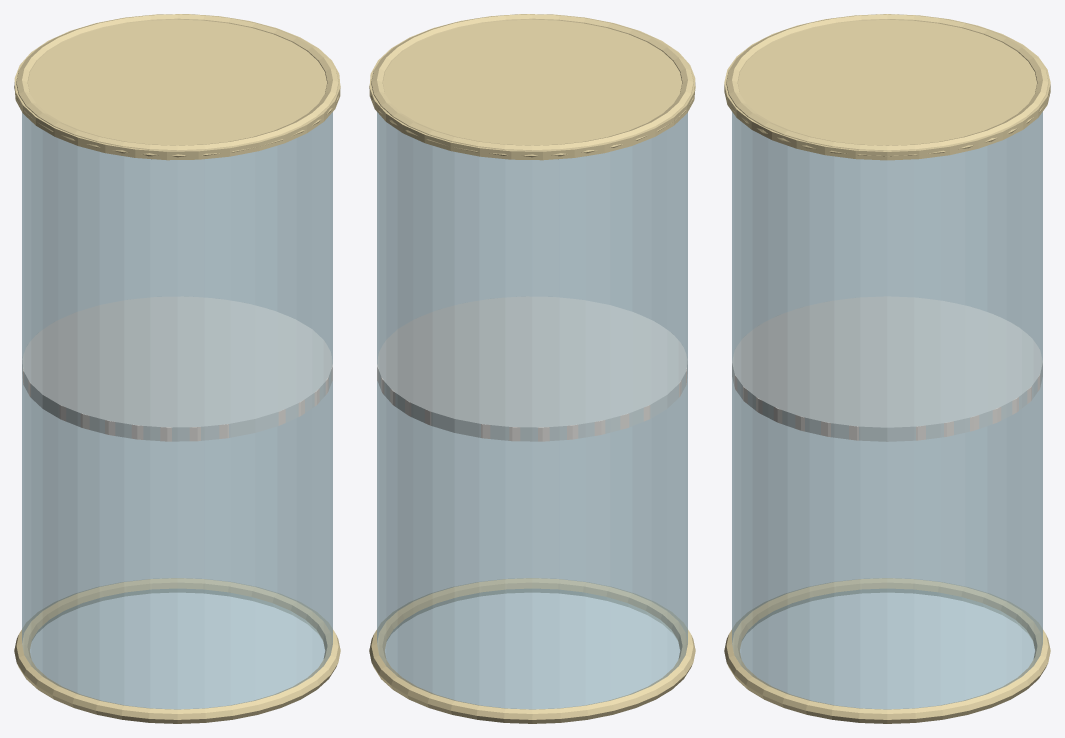
The model's file is reef-elevator.glb.
3 views of the same model, side by side, from view 1: azimuth 30°, elevation 25°; view 2: azimuth 150°, elevation 25°; view 3: azimuth 270°, elevation 25° (orthographic).
Visible parts, largest first — view 1: Cylinder.004, Cylinder.002, Cylinder.001; view 2: Cylinder.004, Cylinder.002, Cylinder.001; view 3: Cylinder.004, Cylinder.002, Cylinder.001.
Boxes of the visible parts, x1,y1,x2,y2 form: Cylinder.004: (22, 112, 332, 709); Cylinder.002: (14, 14, 340, 723); Cylinder.001: (22, 296, 332, 441); Cylinder.004: (377, 112, 687, 709); Cylinder.002: (369, 14, 695, 723); Cylinder.001: (377, 296, 687, 441); Cylinder.004: (732, 112, 1042, 709); Cylinder.002: (724, 14, 1050, 723); Cylinder.001: (732, 296, 1042, 441).
Bounding box in the file's own units: 4.2 × 8.2 × 4.2.
